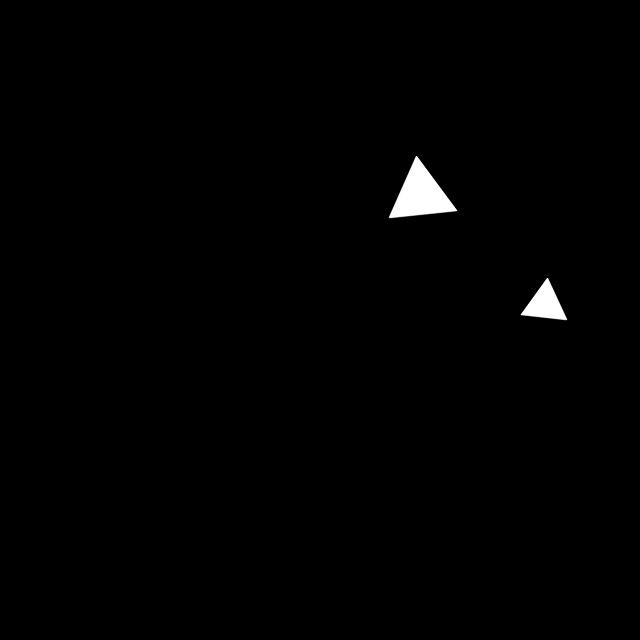Triangle: (376, 146, 468, 234), (510, 266, 581, 330)
